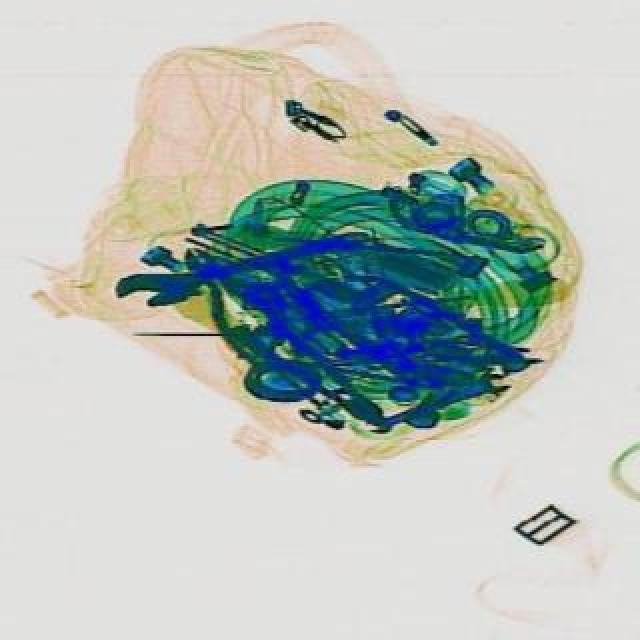scissors: (110, 212, 374, 316), (362, 364, 512, 440)
wrench: (226, 300, 386, 432), (162, 230, 302, 372)
